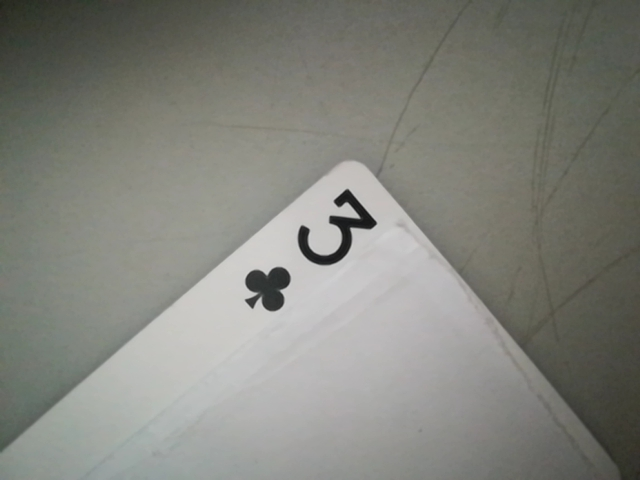mh 3: (233, 184, 396, 314)
